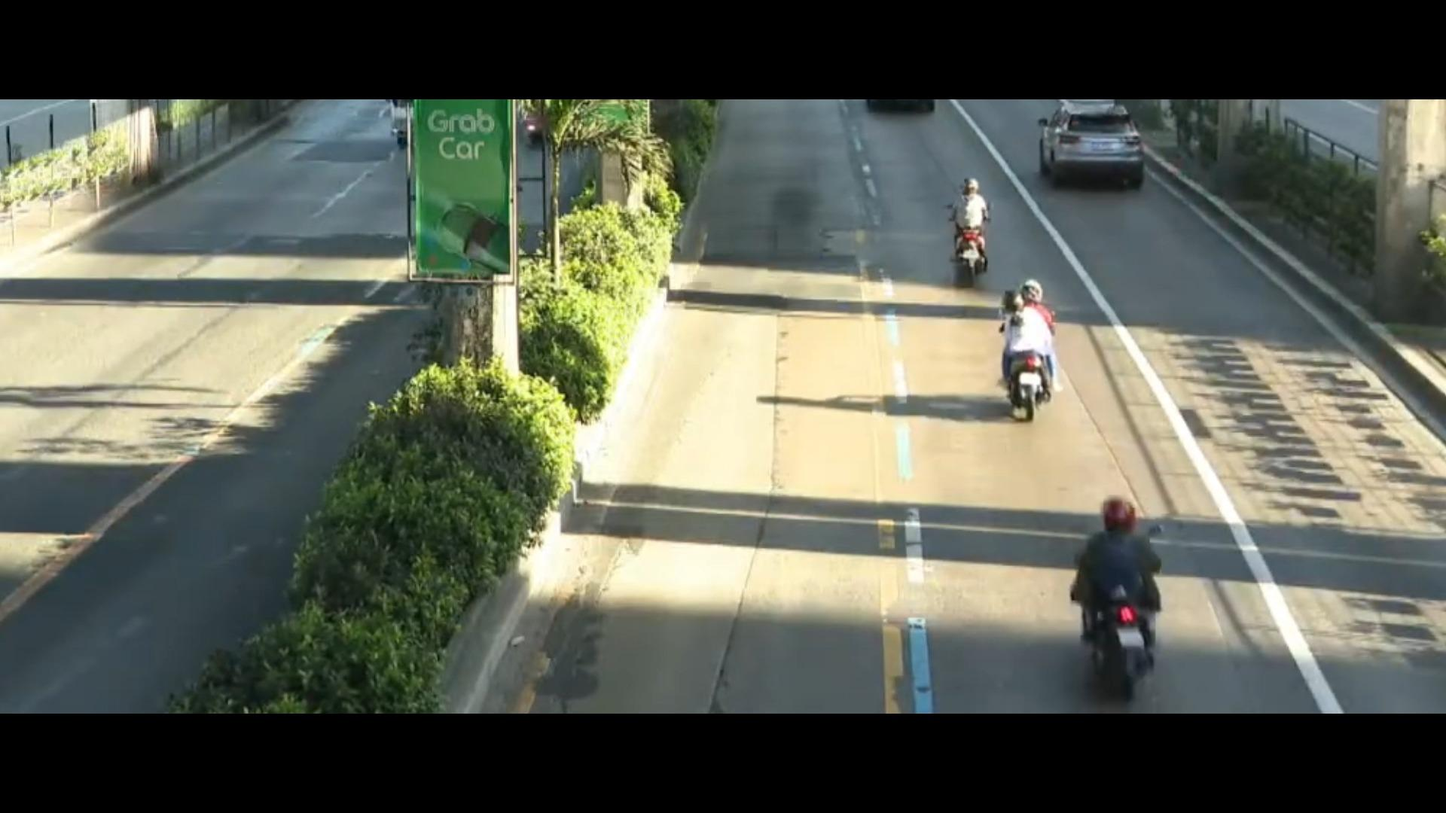Motorcycle: (1051, 446, 1179, 694), (956, 269, 1074, 422), (924, 170, 1023, 297)
SUV: (1031, 102, 1160, 200)
